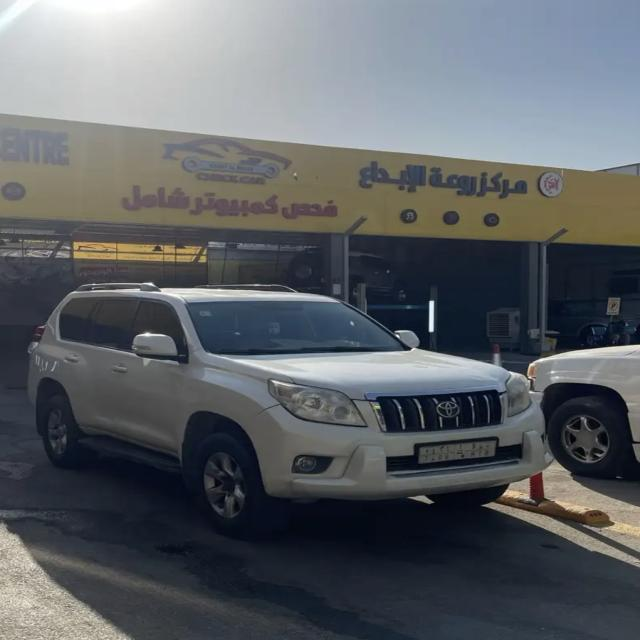license_plate: (417, 438, 500, 464)
